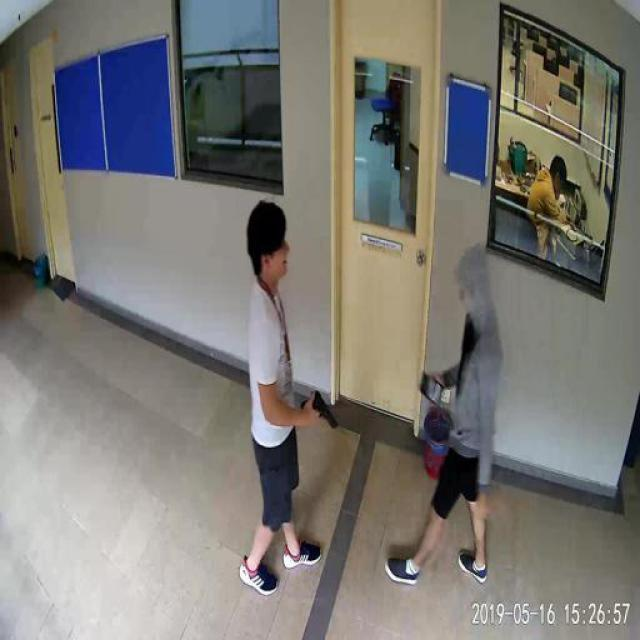weapon: (298, 390, 340, 432)
